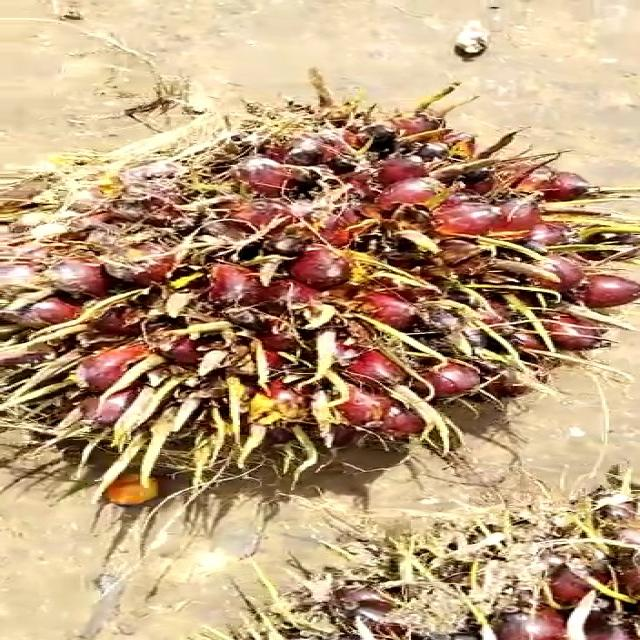palm oil: (0, 84, 604, 517)
